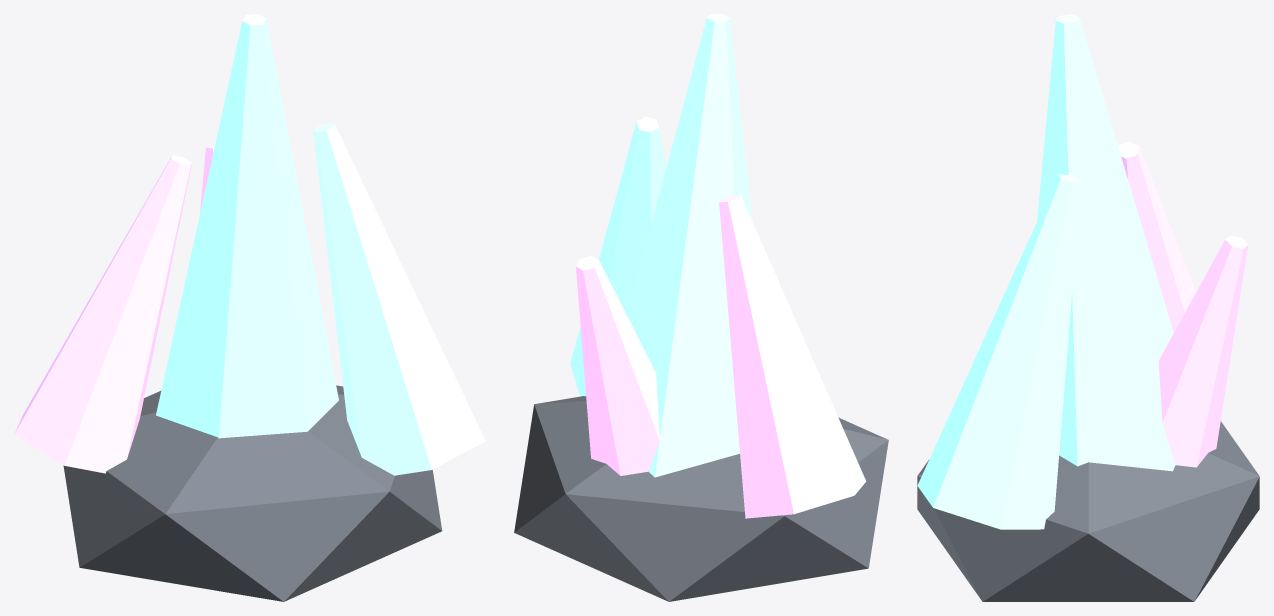
File: LP_Item_V07.fbx
3 views of the same model, side by side, from view 1: azimuth 30°, elevation 25°; view 2: azimuth 150°, elevation 25°; view 3: azimuth 270°, elevation 25° (orthographic). The views are drawn at different scales.
Parts seen in each view (by area): view 1: ArtifactMesh; view 2: ArtifactMesh; view 3: ArtifactMesh.
Part boxes in pixels (x1,y1,x2,y2): ArtifactMesh: [14, 14, 485, 601]; ArtifactMesh: [514, 14, 888, 601]; ArtifactMesh: [917, 14, 1259, 601].
Size of the model in its own units: 0.141 by 0.2045 by 0.1123.
